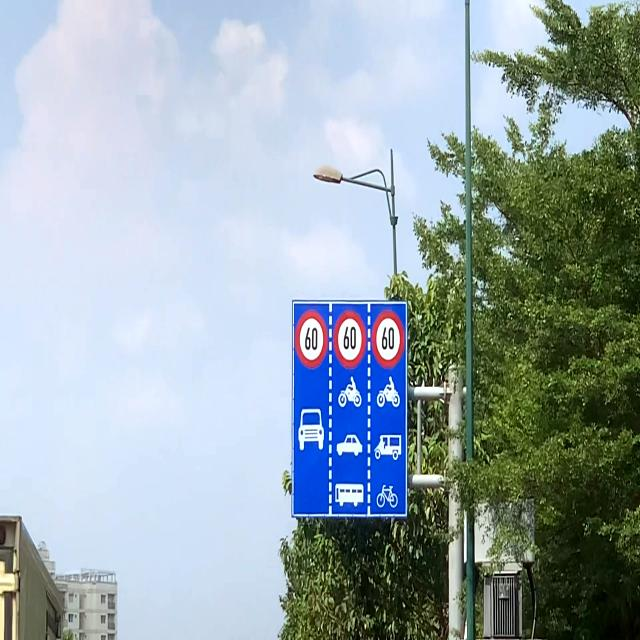P.127: (295, 309, 328, 370), (372, 309, 404, 370), (334, 310, 366, 369)
